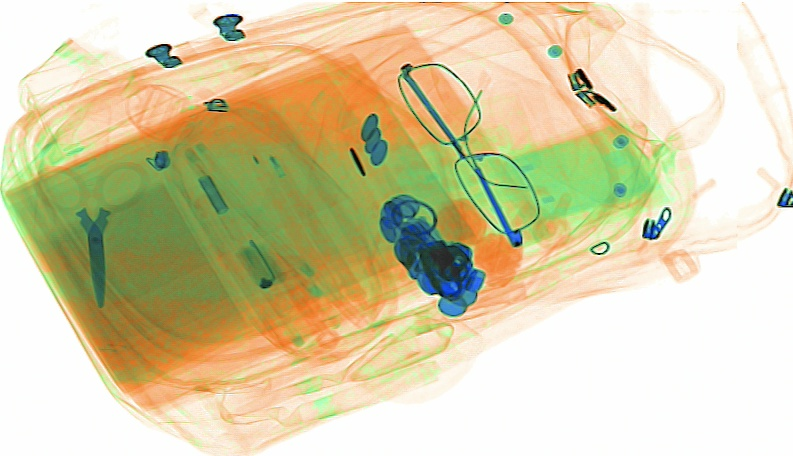scissors: (36, 158, 149, 310)
